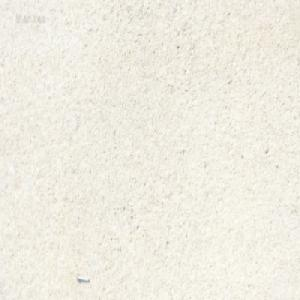Nail: (76, 272, 91, 282)
